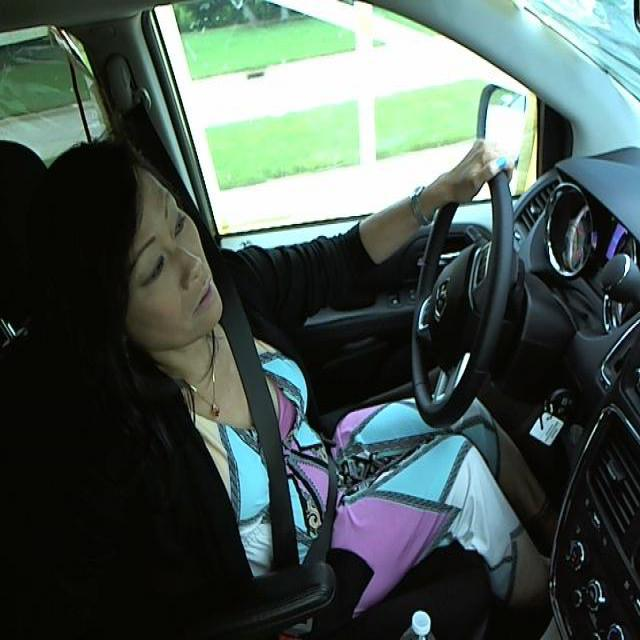seatbelt: (233, 328, 354, 572)
